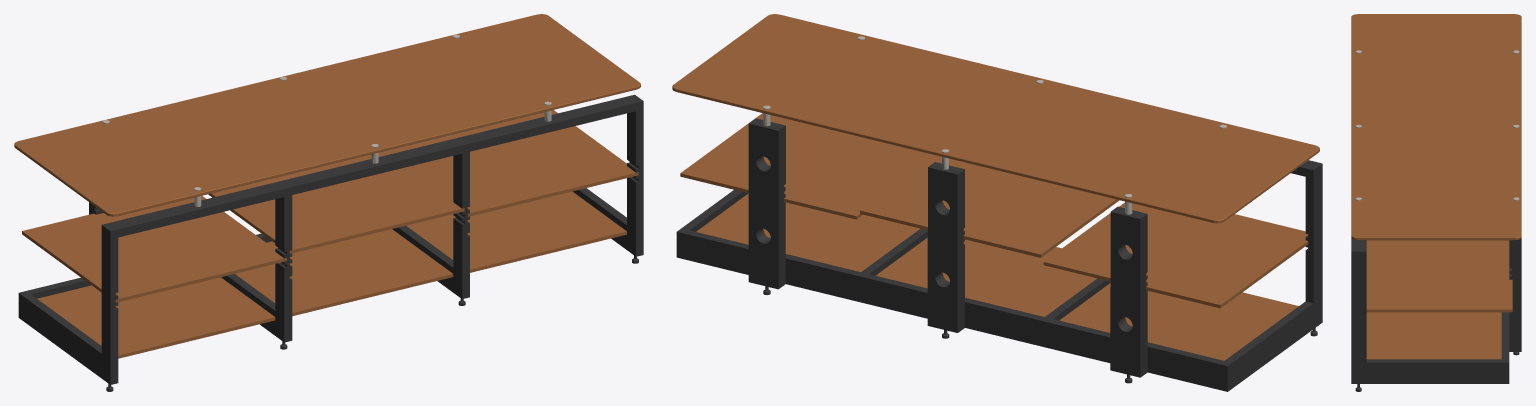
File: tv_stand.glb
The picture shows the model from 3 angles, left to right: view 1: azimuth 30°, elevation 25°; view 2: azimuth 150°, elevation 25°; view 3: azimuth 270°, elevation 25°; orthographic projection. The views are drawn at different scales.
Visible parts, largest first — view 1: Node; view 2: Node; view 3: Node.
Part boxes in pixels (left/top/right/bottom): Node: left=14, top=14, right=643, bottom=391; Node: left=672, top=14, right=1322, bottom=391; Node: left=1351, top=14, right=1521, bottom=391.
Size of the model in its own units: 68.51 by 22.15 by 22.05.
